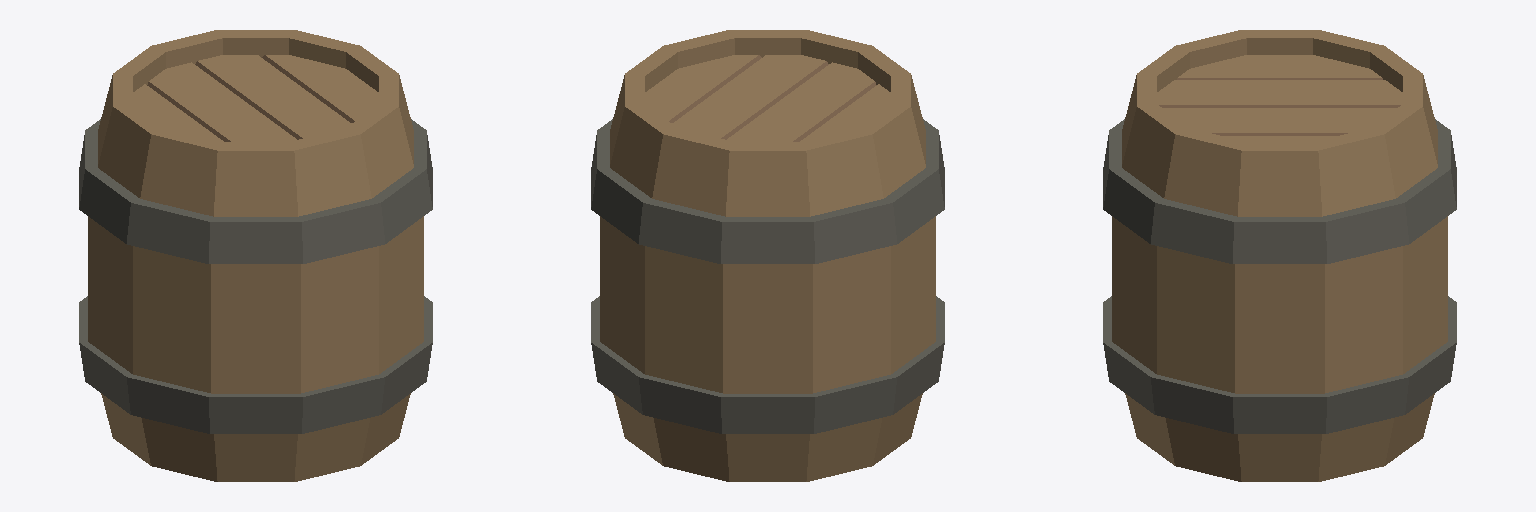
Rendered from Prop_Barrel_1.obj.
The picture shows the model from 3 angles: view 1: azimuth 30°, elevation 25°; view 2: azimuth 150°, elevation 25°; view 3: azimuth 270°, elevation 25°; orthographic projection.
Parts seen in each view (by area): view 1: object1; view 2: object1; view 3: object1.
Boxes of the visible parts, <box> form: object1: <box>79,30,432,481</box>; object1: <box>591,30,944,481</box>; object1: <box>1103,30,1456,481</box>.
Size of the model in its own units: 0.483 by 0.5 by 0.483.